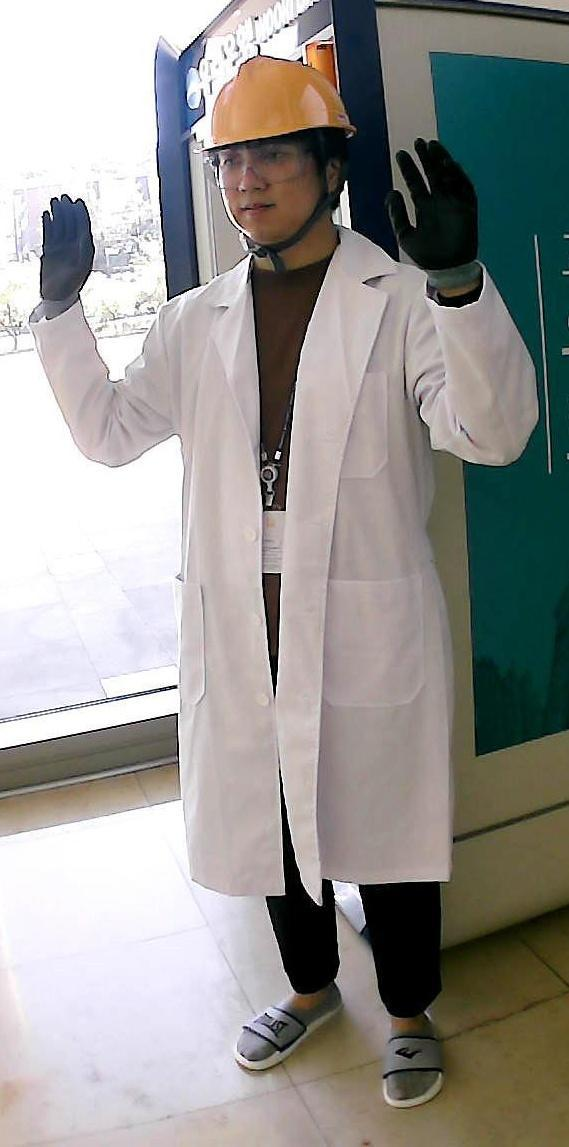lab_coat: (162, 268, 415, 895)
